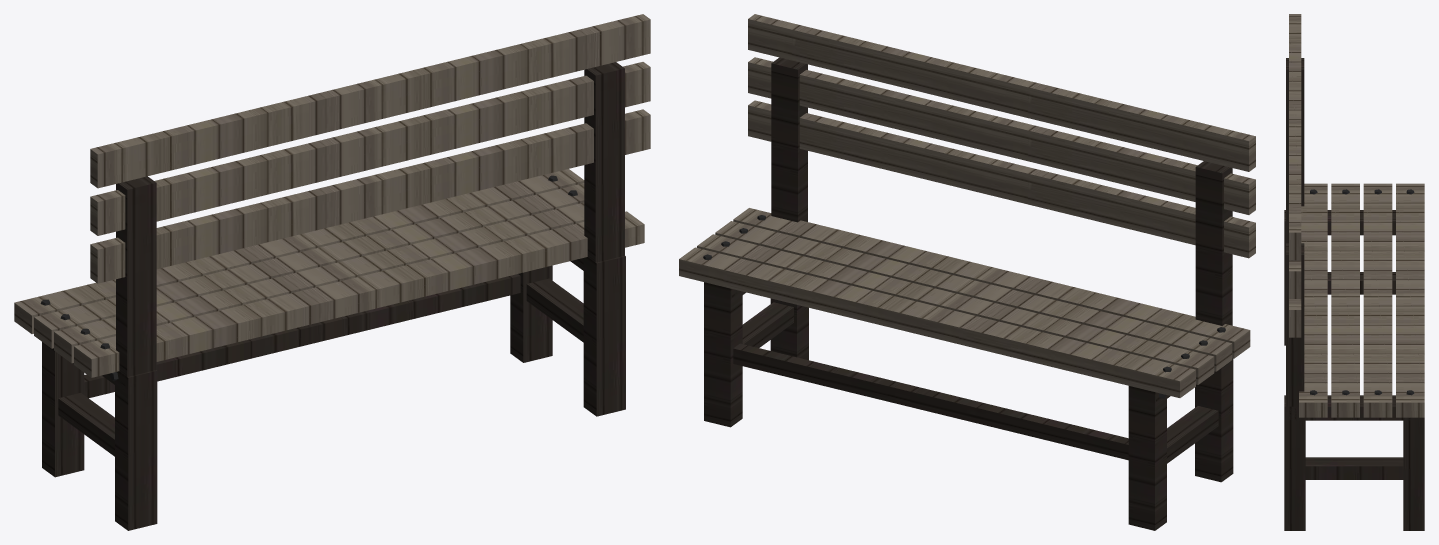
File: bench_01.glb
3 renders of one model, left to right at view 1: azimuth 30°, elevation 25°; view 2: azimuth 150°, elevation 25°; view 3: azimuth 270°, elevation 25°, orthographic. The views are drawn at different scales.
Visible parts, largest first — view 1: bench_01; view 2: bench_01; view 3: bench_01.
Part boxes in pixels (x1,y1,x2,y2): bench_01: [14, 14, 650, 530]; bench_01: [679, 14, 1255, 530]; bench_01: [1284, 14, 1424, 530].
Bounding box in the file's own units: 1.7 × 1.12 × 0.4599.
3 materials, 3 textured.
